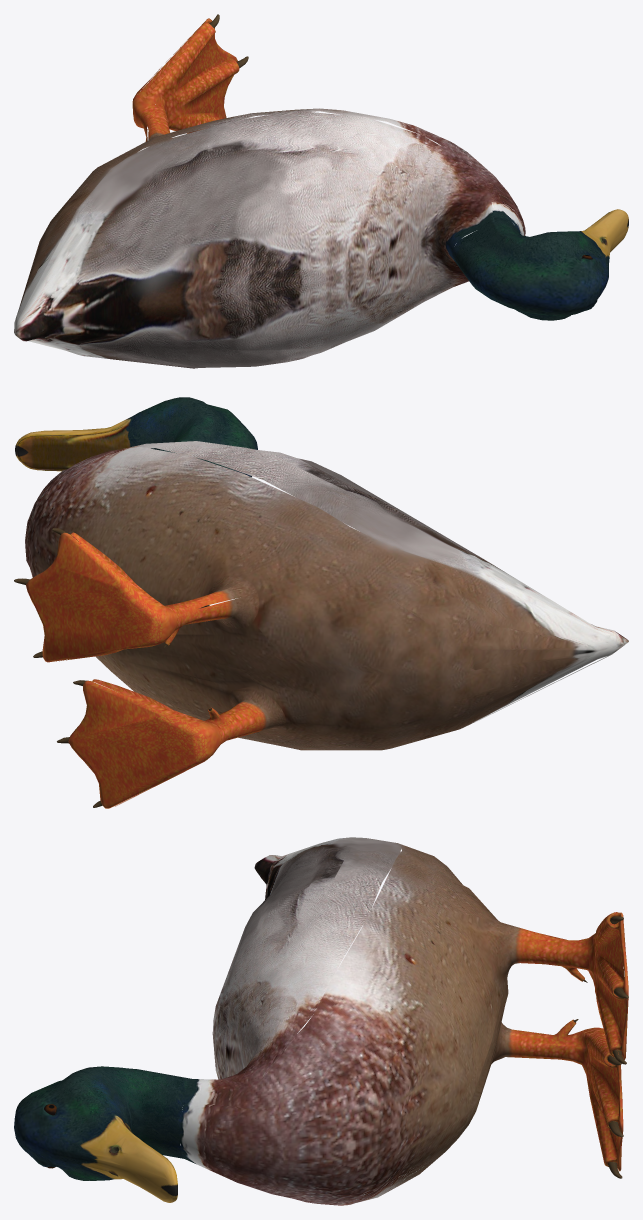
The model's file is duck.glb.
3 views of the same model, one above another, from view 1: azimuth 30°, elevation 25°; view 2: azimuth 150°, elevation 25°; view 3: azimuth 270°, elevation 25° (orthographic). The views are drawn at different scales.
Visible parts, largest first — view 1: Object_70; view 2: Object_70; view 3: Object_70.
Boxes of the visible parts, x1=… form: Object_70: x1=14, y1=14, x2=628, y2=368; Object_70: x1=14, y1=397, x2=628, y2=808; Object_70: x1=14, y1=837, x2=628, y2=1205.
Bounding box in the file's own units: 0.7542 × 0.301 × 0.5884.
Materials: 1 (1 with a texture image).
